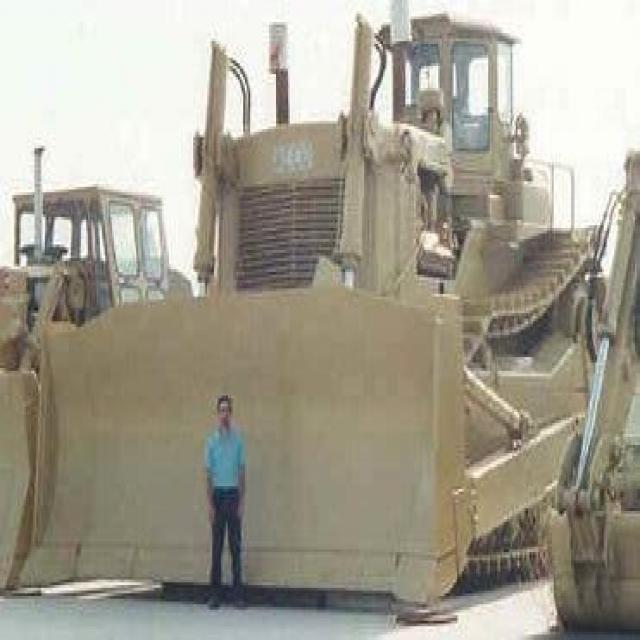Bulldozer: (16, 5, 636, 610)
